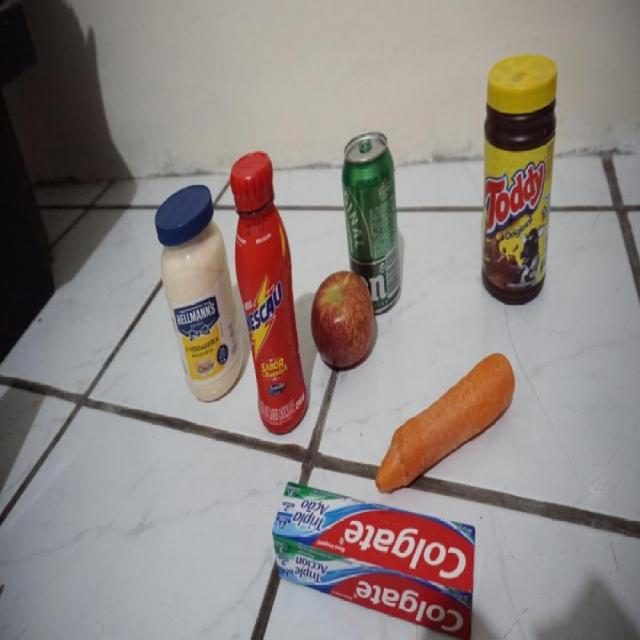Apple: (312, 270, 378, 368)
BeerCan: (343, 133, 401, 312)
Carrot: (377, 353, 515, 491)
ChocolateMilk: (228, 151, 308, 434)
ChocolatePowder: (482, 52, 556, 301)
Mayonnaise: (154, 180, 244, 401)
Toothpaste: (272, 480, 478, 640)
